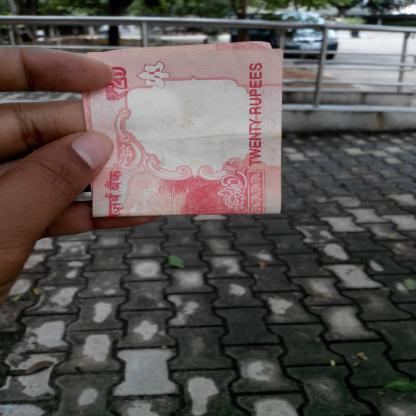Old20Back: (86, 53, 284, 211)
